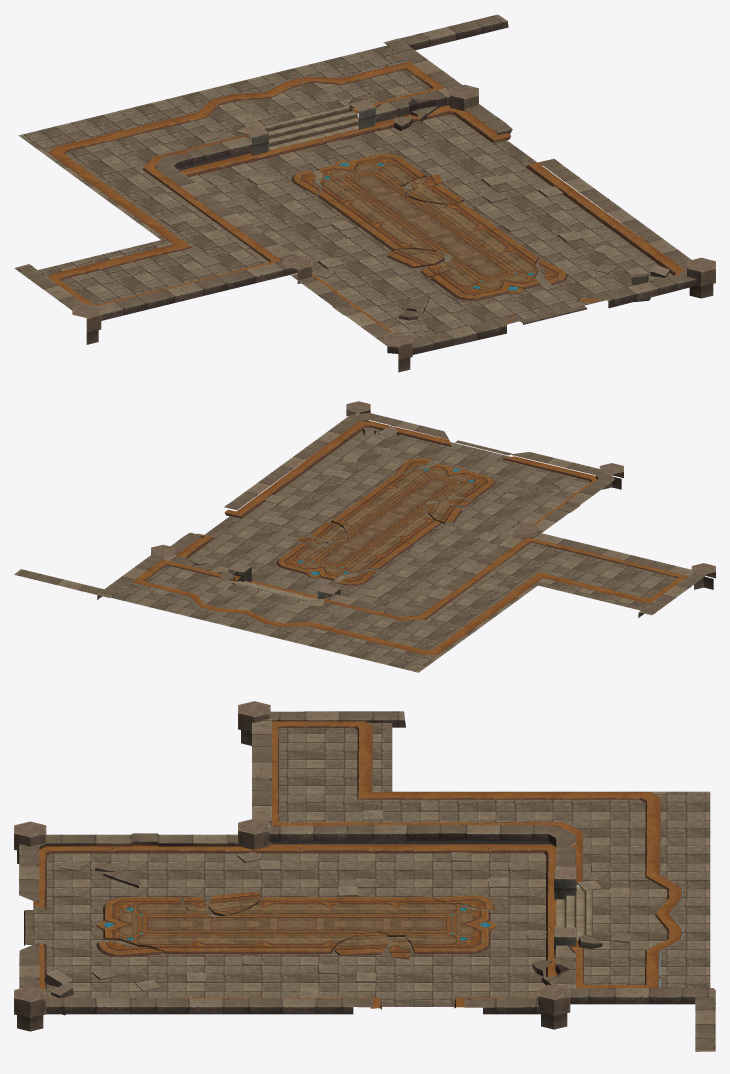
The model's file is terrain_section03_guanka1106.FBX.
3 renders of one model, top to bottom at view 1: azimuth 30°, elevation 25°; view 2: azimuth 150°, elevation 25°; view 3: azimuth 270°, elevation 25°, orthographic. The views are drawn at different scales.
Parts seen in each view (by area): view 1: terrain_section03_guanka1106; view 2: terrain_section03_guanka1106; view 3: terrain_section03_guanka1106.
Boxes of the visible parts, bbox=[...] form: terrain_section03_guanka1106: bbox=[14, 14, 715, 372]; terrain_section03_guanka1106: bbox=[14, 401, 715, 672]; terrain_section03_guanka1106: bbox=[14, 701, 715, 1051].
Bounding box in the file's own units: 57.25 × 3.36 × 49.29.
